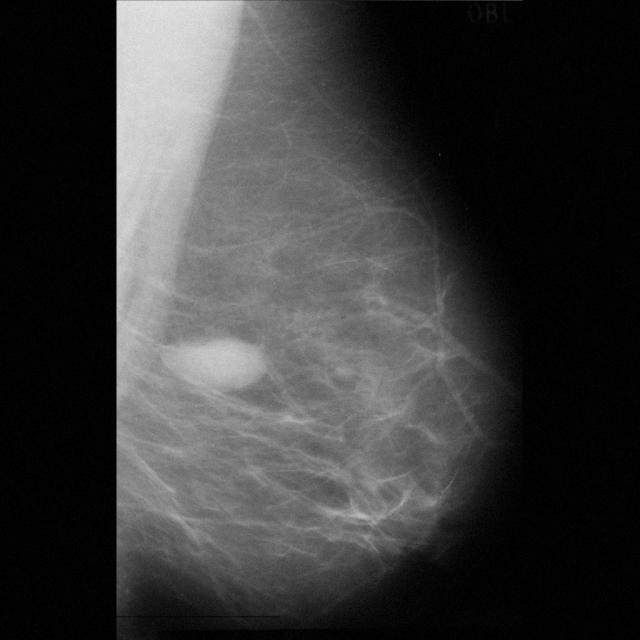CIRC: (169, 314, 268, 413)
